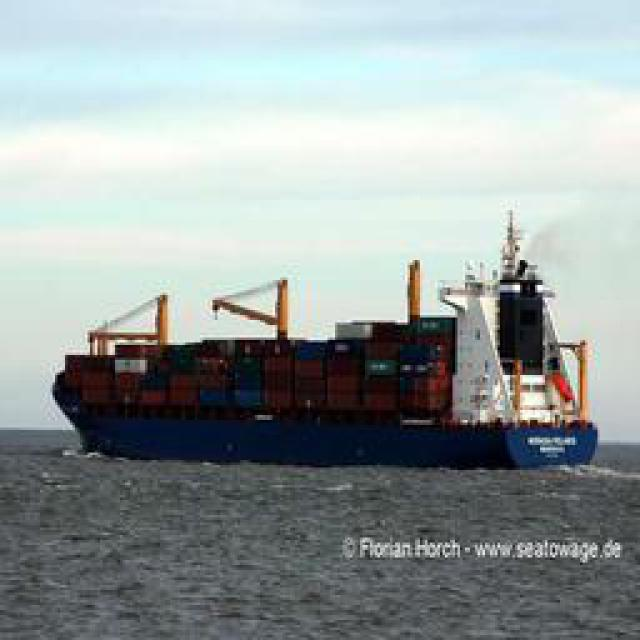Ship: (47, 234, 595, 469)
